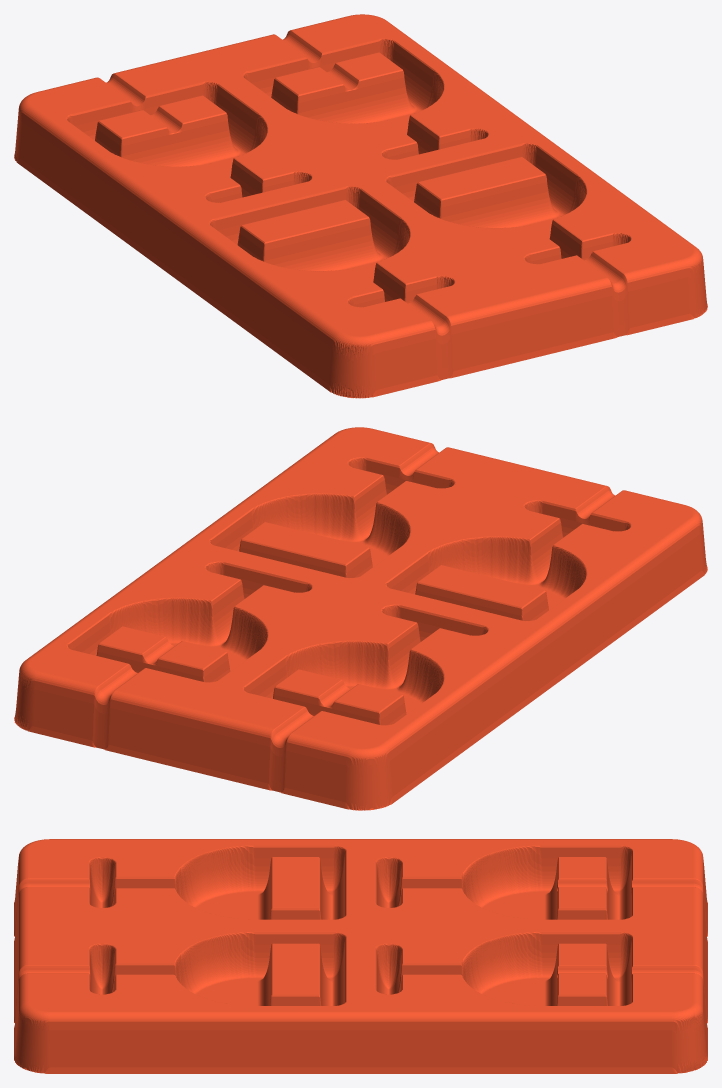
The model's file is mold.glb.
3 renders of one model, top to bottom at view 1: azimuth 30°, elevation 25°; view 2: azimuth 150°, elevation 25°; view 3: azimuth 270°, elevation 25°, orthographic.
Parts seen in each view (by area): view 1: geometry_0; view 2: geometry_0; view 3: geometry_0.
Part boxes in pixels (x1=…): geometry_0: x1=14, y1=14, x2=707, y2=398; geometry_0: x1=14, y1=427, x2=707, y2=810; geometry_0: x1=14, y1=839, x2=707, y2=1073.
Bounding box in the file's own units: 0.1086 × 0.0155 × 0.1735.
